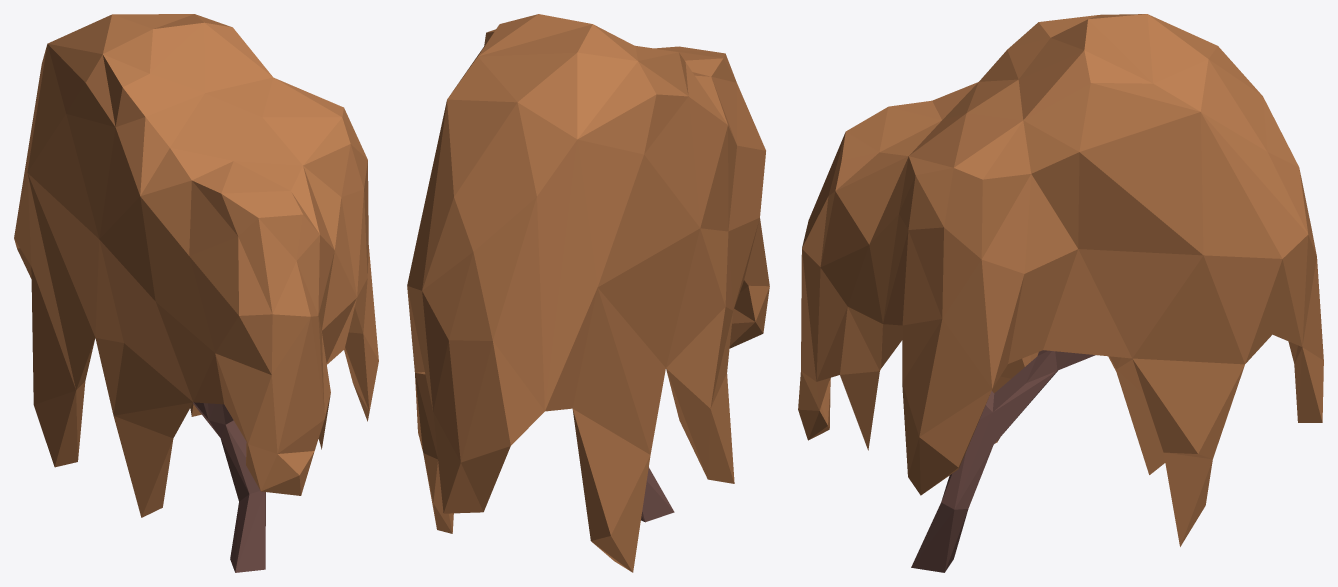
Rendered from Willow_Autumn_1.lod2.glb.
3 views of the same model, side by side, from view 1: azimuth 30°, elevation 25°; view 2: azimuth 150°, elevation 25°; view 3: azimuth 270°, elevation 25° (orthographic). The views are drawn at different scales.
Visible parts, largest first — view 1: Willow_Autumn_1; view 2: Willow_Autumn_1; view 3: Willow_Autumn_1.
Boxes of the visible parts, x1,y1,x2,y2 form: Willow_Autumn_1: [14, 14, 378, 572]; Willow_Autumn_1: [407, 14, 769, 572]; Willow_Autumn_1: [798, 14, 1323, 572].
Bounding box in the file's own units: 1.44 × 2.85 × 2.55.
